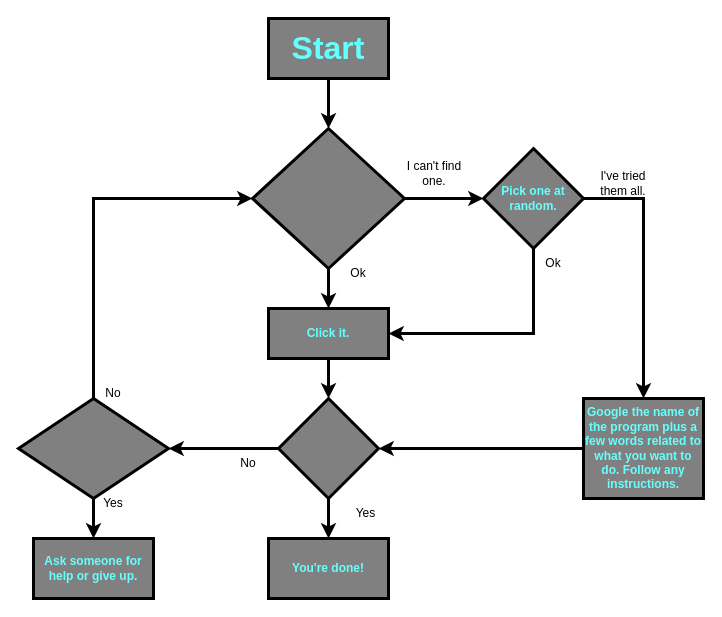
This 722x617 diagram has some shape labels left out. Each missing label, with the centre of its shape:
"Did it work?" goes at pixel 328 448.
"Find a menu item or button which looks related to what you want to do." goes at pixel 328 198.
"Have you been trying this for over half an hour?" goes at pixel 93 448.
